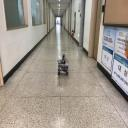cart: (57, 61, 69, 76)
